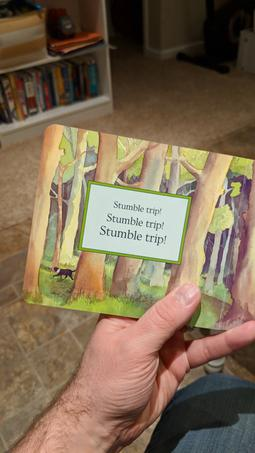text block: (91, 190, 176, 250)
